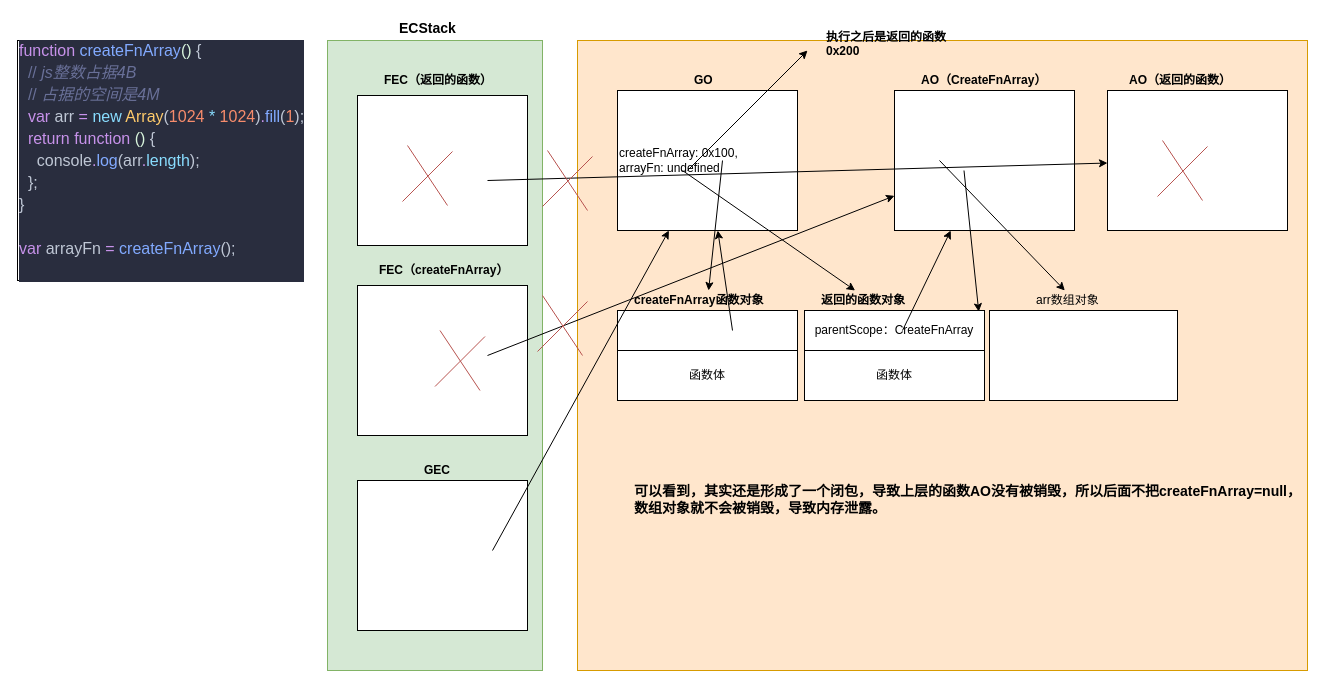
Image size: 1330x688. Some labels were removed from this diagram. Each missing label, with the centre of its shape:
arr: 0x300, function:0x200: (984,160)
parentScope;Go: (707,330)
